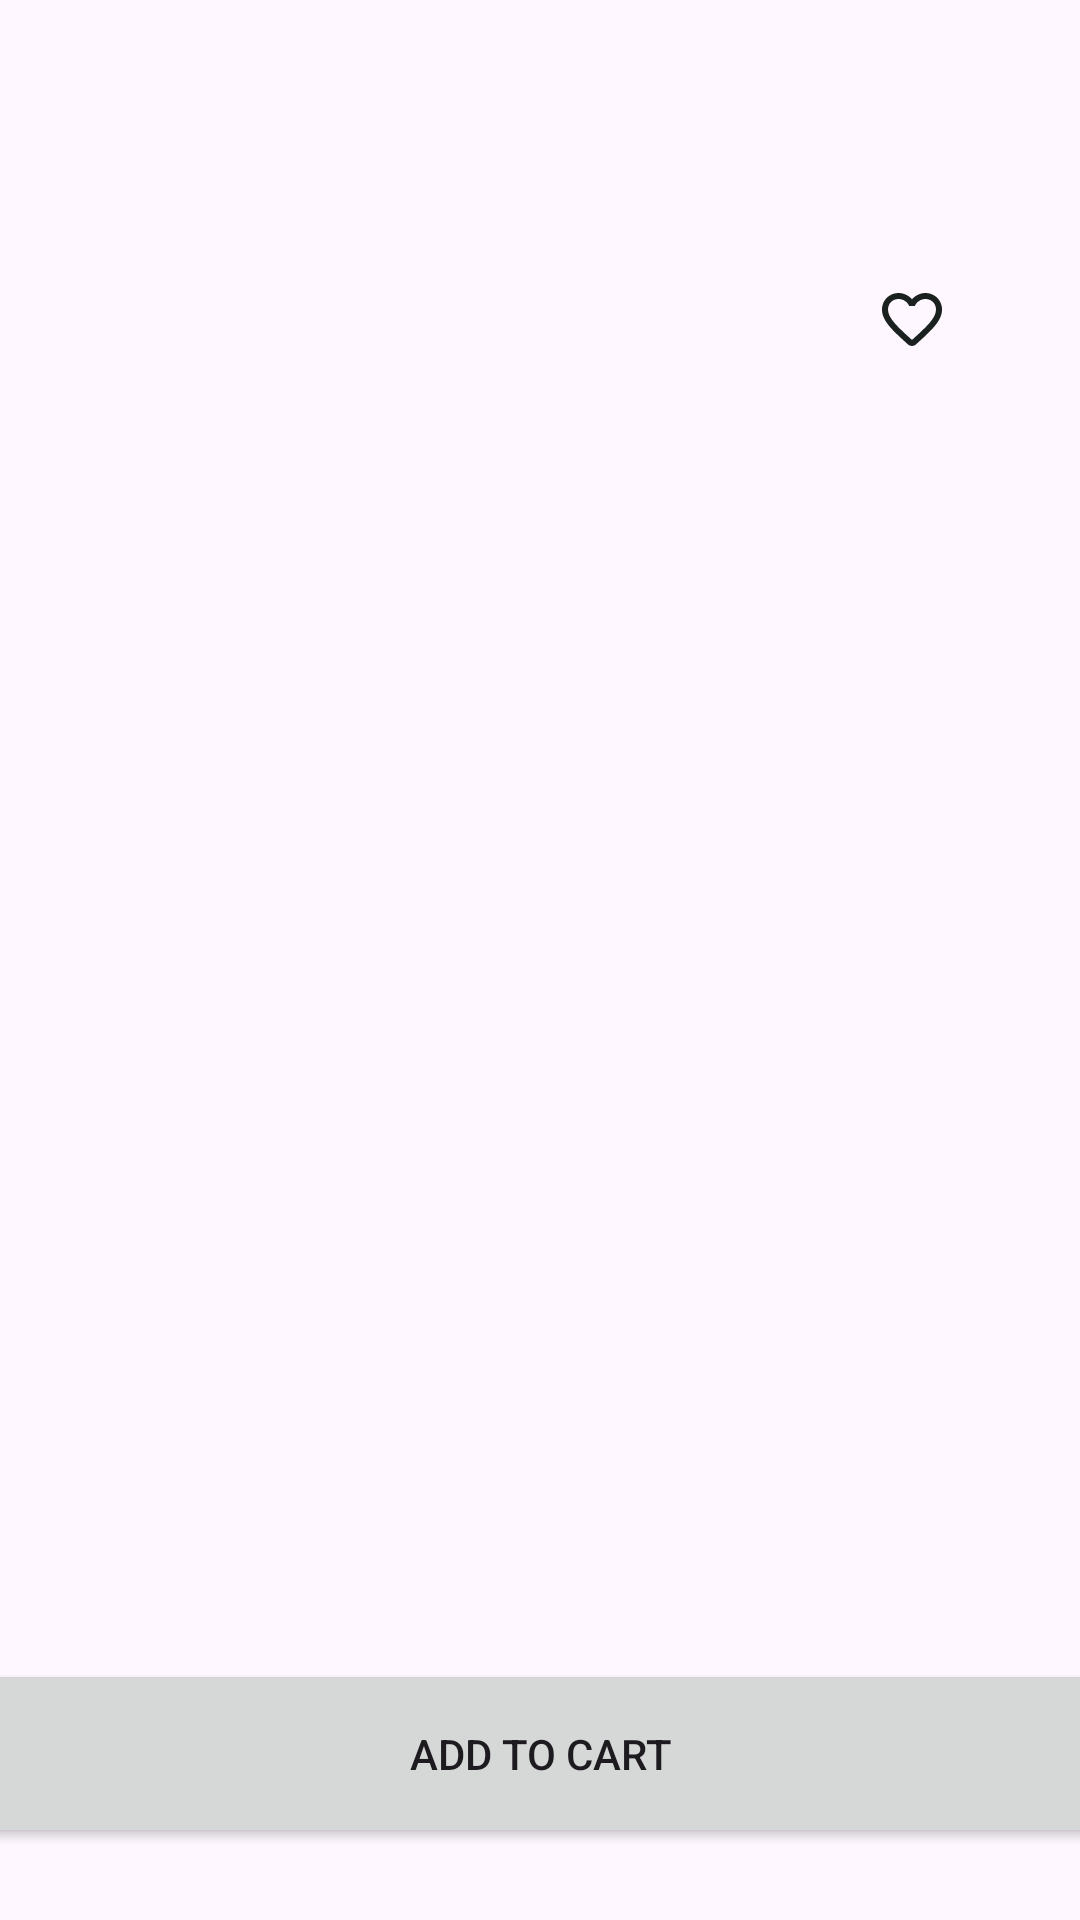

Where icons sit on this 1080px x 1920px app screen, as bbox=(x1, y1, x2, y2):
fav: bbox=(882, 293, 942, 346)
